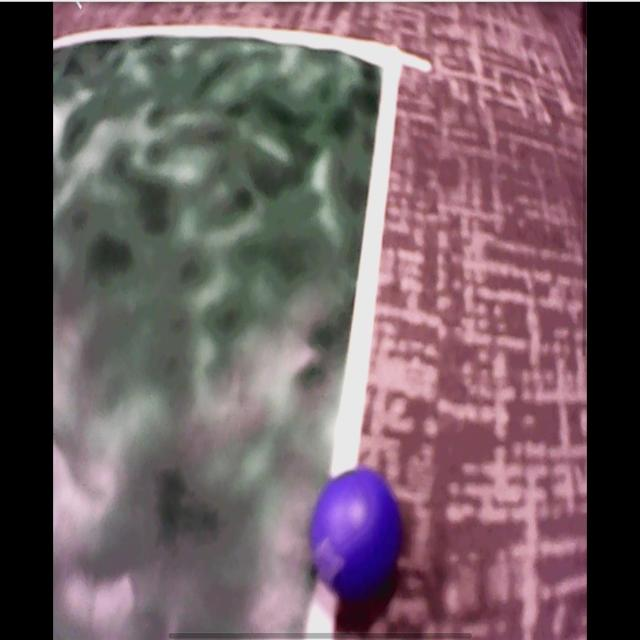ball: (314, 471, 400, 605)
